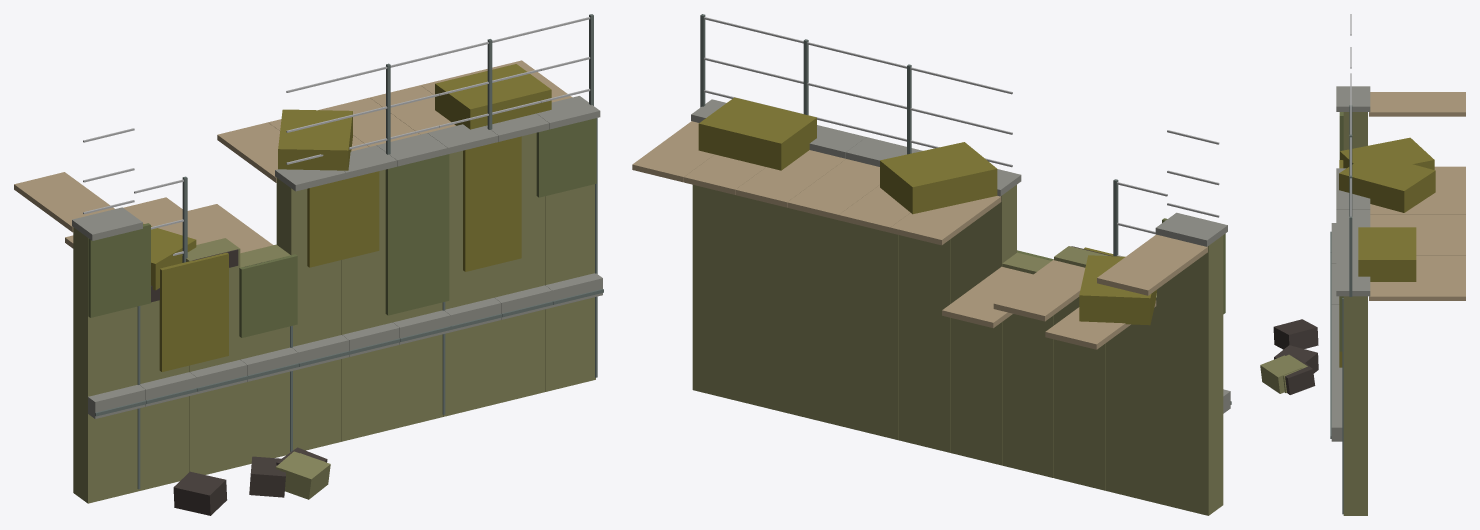
The model's file is SM_MuroRampa_v2_Hiedra_e2_MuyDanado_LOD0.fbx.
3 views of the same model, side by side, from view 1: azimuth 30°, elevation 25°; view 2: azimuth 150°, elevation 25°; view 3: azimuth 270°, elevation 25° (orthographic). The views are drawn at different scales.
Parts seen in each view (by area): view 1: SM_muro_rampa_v10_LOD0; view 2: SM_muro_rampa_v10_LOD0; view 3: SM_muro_rampa_v10_LOD0.
Part boxes in pixels (x1,y1,x2,y2): SM_muro_rampa_v10_LOD0: (14,14,603,515); SM_muro_rampa_v10_LOD0: (632,14,1231,515); SM_muro_rampa_v10_LOD0: (1260,14,1465,515).
Size of the model in its own units: 10.03 by 6.84 by 4.24.
